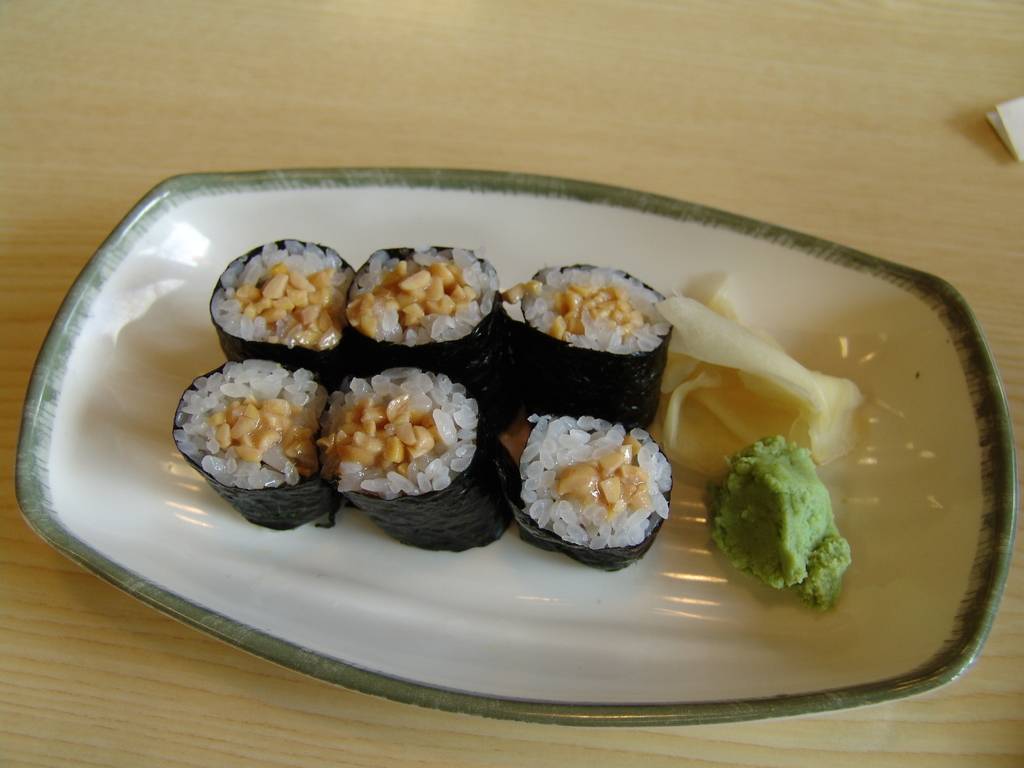sushi: (172, 235, 668, 561), (500, 269, 674, 428), (522, 429, 673, 574)
